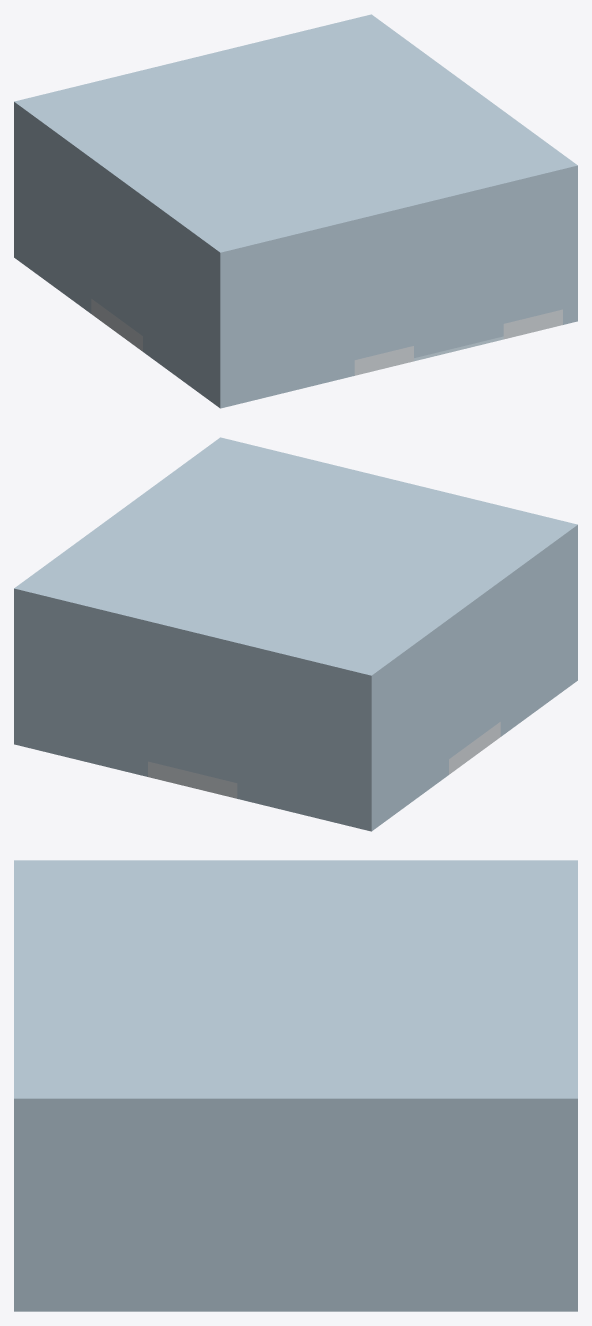
Rendered from frozen-spring.glb.
3 renders of one model, top to bottom at view 1: azimuth 30°, elevation 25°; view 2: azimuth 150°, elevation 25°; view 3: azimuth 270°, elevation 25°, orthographic. The views are drawn at different scales.
Parts seen in each view (by area): view 1: ice-rock_19, plug_frozen_south, ice-rock_8, ice-rock_7, plug_ice_west, ice-rock_12, ice-rock_9, ice-rock_10, ice-rock_11, ice-rock_18, ice-rock_5, ice-rock_3 (+7 smaller); view 2: ice-rock_19, ice-rock_1, ice-rock_2, ice-rock_8, plug_ice_north, ice-rock_7, plug_ice_west, ice-rock_13, ice-rock_5, ice-rock_3, ice-rock_14, snow_1 (+1 smaller); view 3: ice-rock_19, ice-rock_6, ice-rock_4, ice-rock_2.
Part boxes in pixels (x1,y1,x2,y2): ice-rock_19: [14, 14, 577, 268]; plug_frozen_south: [354, 200, 562, 359]; ice-rock_8: [143, 212, 235, 408]; ice-rock_7: [57, 149, 91, 313]; plug_ice_west: [91, 205, 142, 335]; ice-rock_12: [324, 235, 354, 382]; ice-rock_9: [235, 257, 264, 404]; ice-rock_10: [265, 250, 294, 397]; ice-rock_11: [295, 243, 324, 390]; ice-rock_18: [354, 185, 562, 250]; ice-rock_5: [39, 136, 56, 288]; ice-rock_3: [22, 124, 39, 275]; ice-rock_19: [14, 437, 577, 691]; ice-rock_1: [237, 658, 379, 831]; ice-rock_2: [14, 604, 147, 776]; ice-rock_8: [500, 540, 577, 736]; plug_ice_north: [148, 668, 237, 782]; ice-rock_7: [414, 635, 448, 799]; plug_ice_west: [449, 628, 500, 758]; ice-rock_13: [148, 637, 237, 689]; ice-rock_5: [397, 660, 414, 812]; ice-rock_3: [380, 673, 397, 824]; ice-rock_14: [449, 597, 500, 665]; snow_1: [148, 761, 237, 798]; ice-rock_19: [14, 860, 577, 1119]; ice-rock_6: [14, 1120, 507, 1311]; ice-rock_4: [507, 1120, 554, 1311]; ice-rock_2: [554, 1120, 577, 1311].
Bounding box in the file's own units: 12 × 5 × 12.
